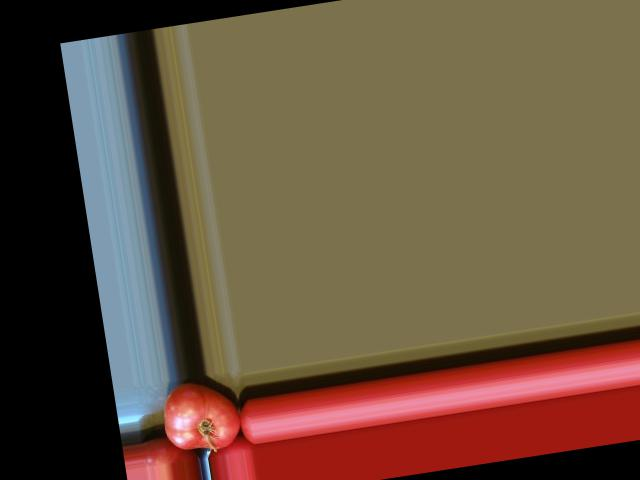tomato: (159, 376, 243, 455)
